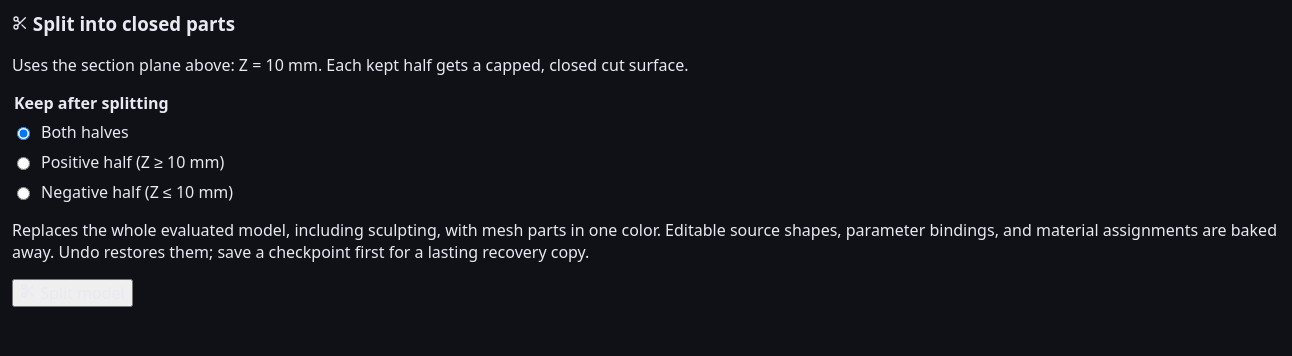
it: split panel › rejects a result when the shared section plane moves during processing
Click the button "Split model": (72, 293) [12,279,133,307]
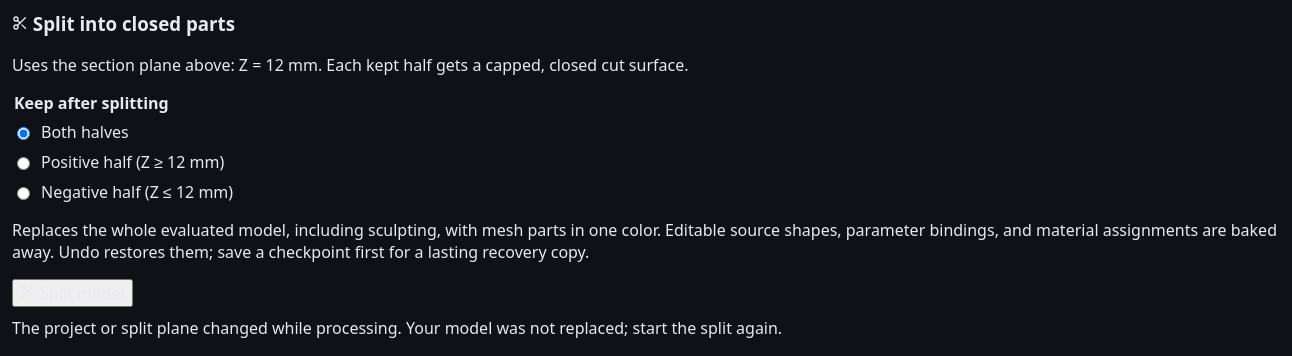
Expected: the message shows "plane changed", [12,317,782,339]
